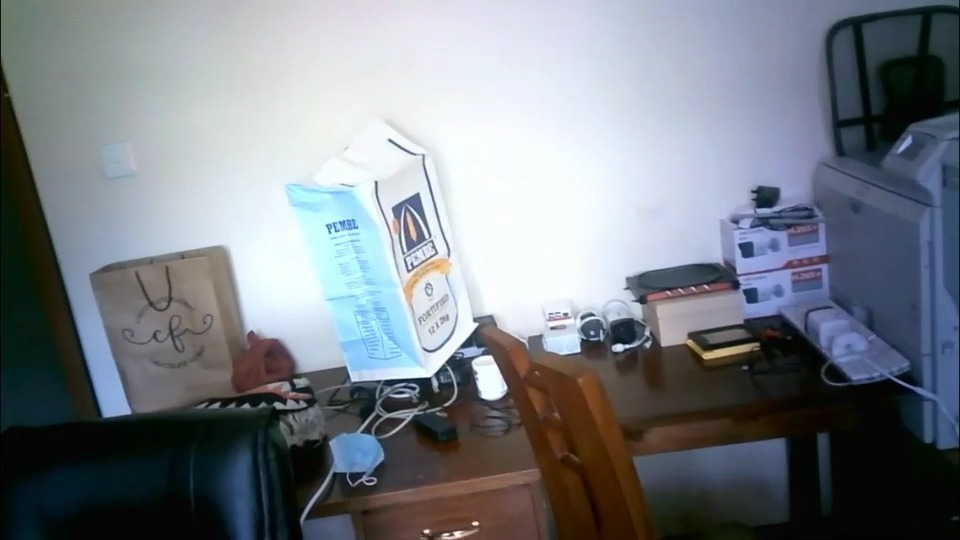wheat_flour_blue_label: (282, 119, 478, 377)
